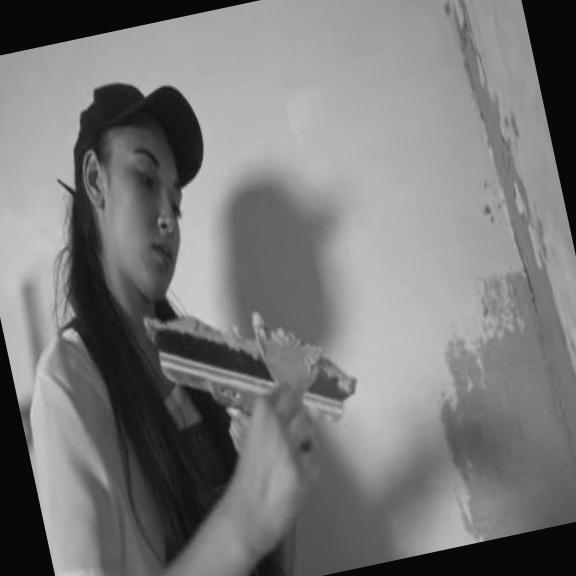no_safety_vest: (3, 285, 277, 576)
